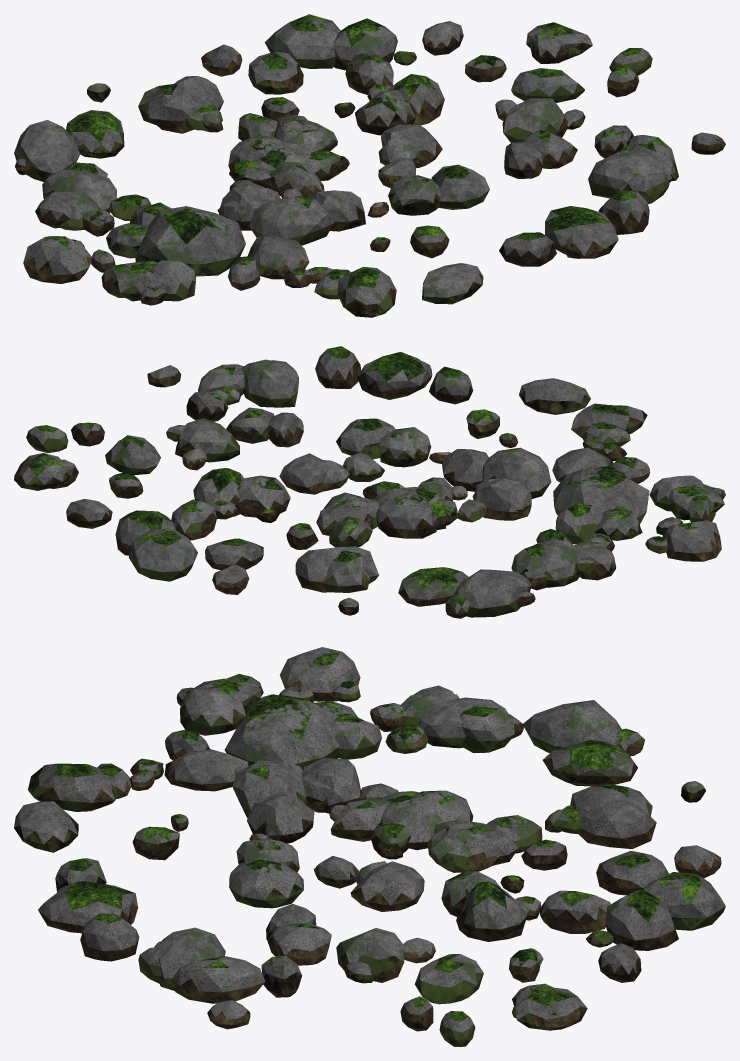
Rendered from Scree_Patch_A.glb.
The picture shows the model from 3 angles, top to bottom: view 1: azimuth 30°, elevation 25°; view 2: azimuth 150°, elevation 25°; view 3: azimuth 270°, elevation 25°; orthographic projection. The views are drawn at different scales.
Visible parts, largest first — view 1: Scree_Patch_A__Stone; view 2: Scree_Patch_A__Stone; view 3: Scree_Patch_A__Stone.
Part boxes in pixels (x1=…): Scree_Patch_A__Stone: x1=14, y1=14, x2=725, y2=317; Scree_Patch_A__Stone: x1=14, y1=346, x2=725, y2=618; Scree_Patch_A__Stone: x1=14, y1=647, x2=725, y2=1046.
Bounding box in the file's own units: 15.19 × 1 × 12.12.
1 material, 1 textured.
